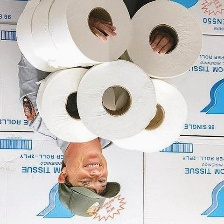tissue: (10, 0, 136, 77), (71, 55, 161, 145), (120, 0, 208, 83), (105, 74, 190, 156), (31, 63, 111, 147)
